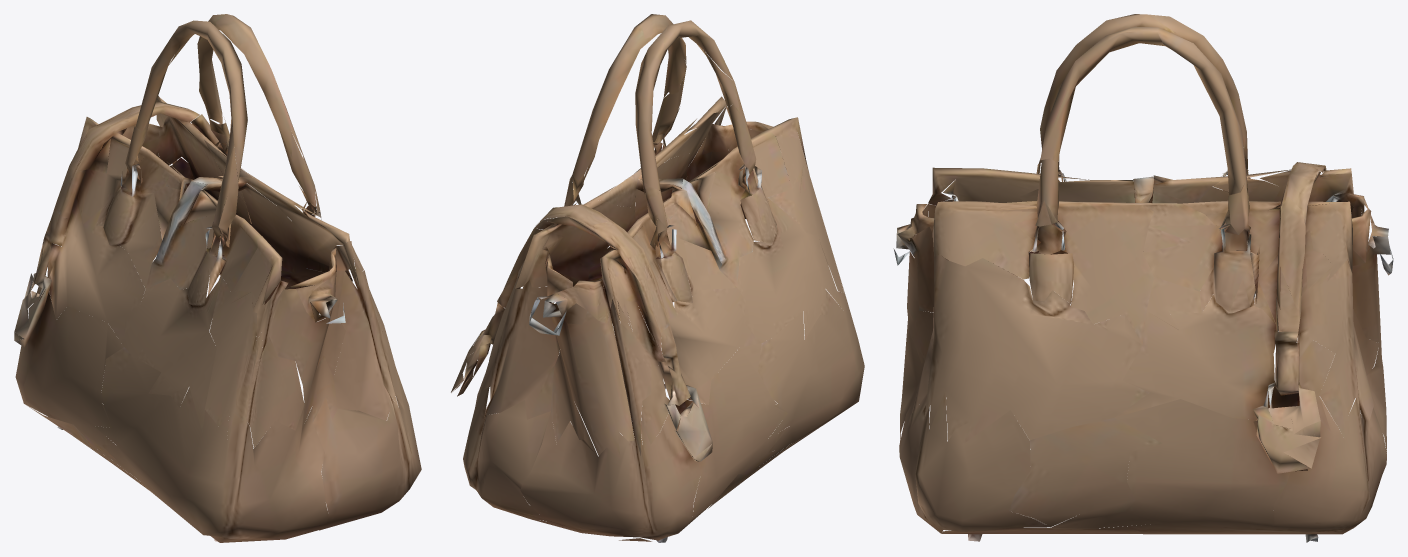
File: handbag.glb
3 views of the same model, side by side, from view 1: azimuth 30°, elevation 25°; view 2: azimuth 150°, elevation 25°; view 3: azimuth 270°, elevation 25° (orthographic). The views are drawn at different scales.
Visible parts, largest first — view 1: tripo_node_a5f1c9bf-8901-4999-9354-5c2b1047e60c; view 2: tripo_node_a5f1c9bf-8901-4999-9354-5c2b1047e60c; view 3: tripo_node_a5f1c9bf-8901-4999-9354-5c2b1047e60c.
Boxes of the visible parts, left/top/right/bottom form: tripo_node_a5f1c9bf-8901-4999-9354-5c2b1047e60c: left=14, top=14, right=421, bottom=542; tripo_node_a5f1c9bf-8901-4999-9354-5c2b1047e60c: left=451, top=14, right=864, bottom=542; tripo_node_a5f1c9bf-8901-4999-9354-5c2b1047e60c: left=893, top=14, right=1393, bottom=542.
Bounding box in the file's own units: 0.1881 × 0.3 × 0.2813.
1 material, 1 textured.
